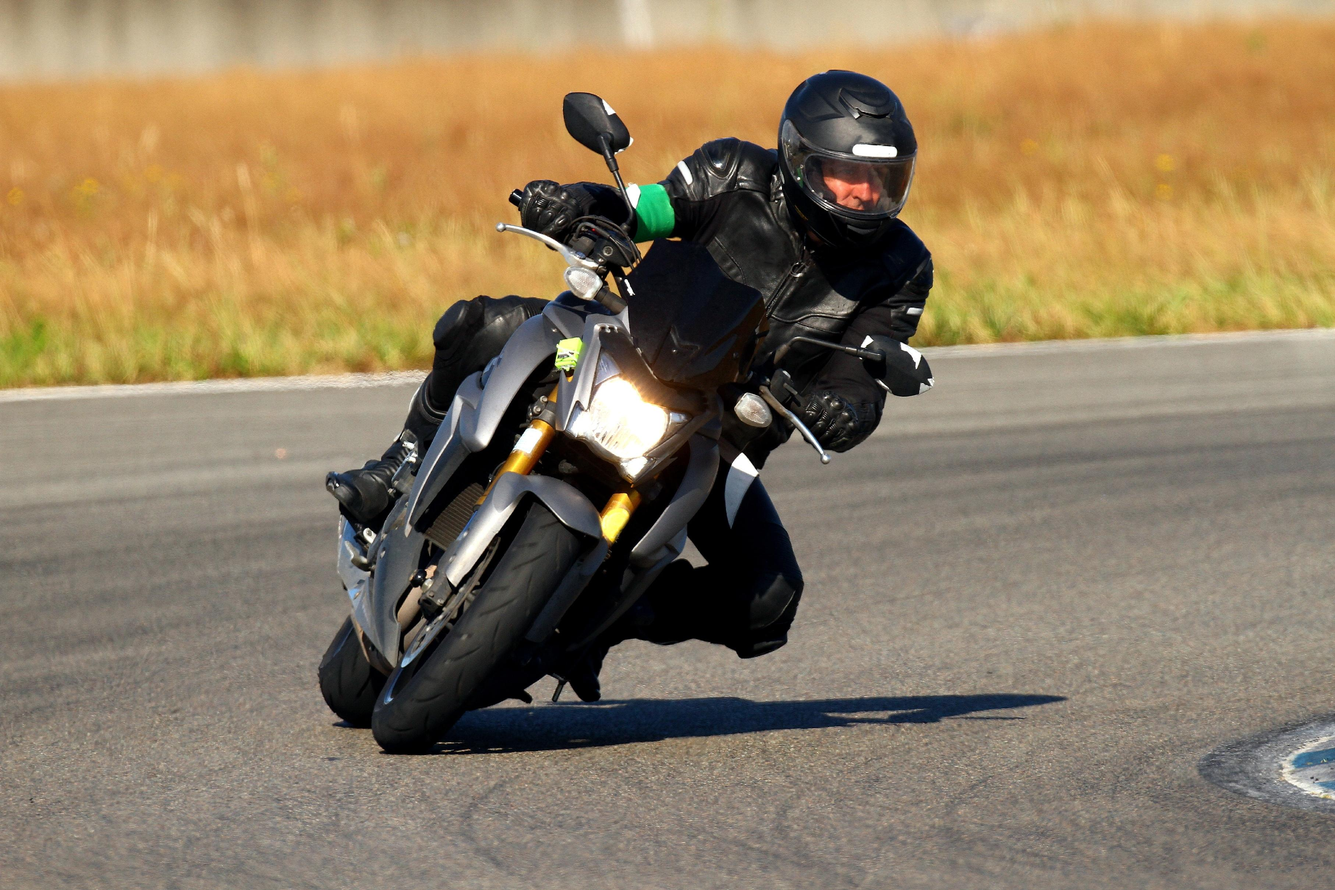helmet: (776, 68, 918, 256)
